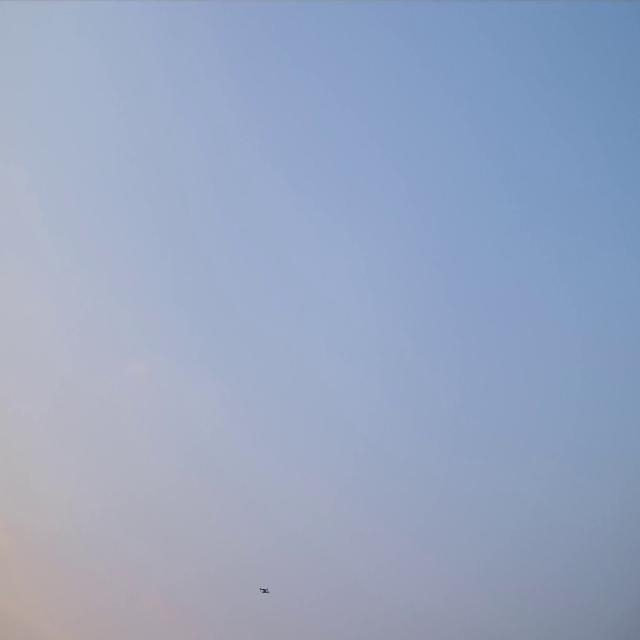UAV: (260, 588, 268, 593)
